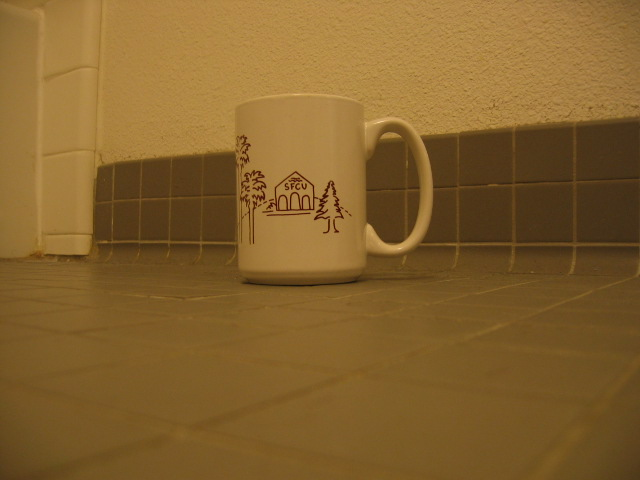mug: (230, 93, 436, 286)
